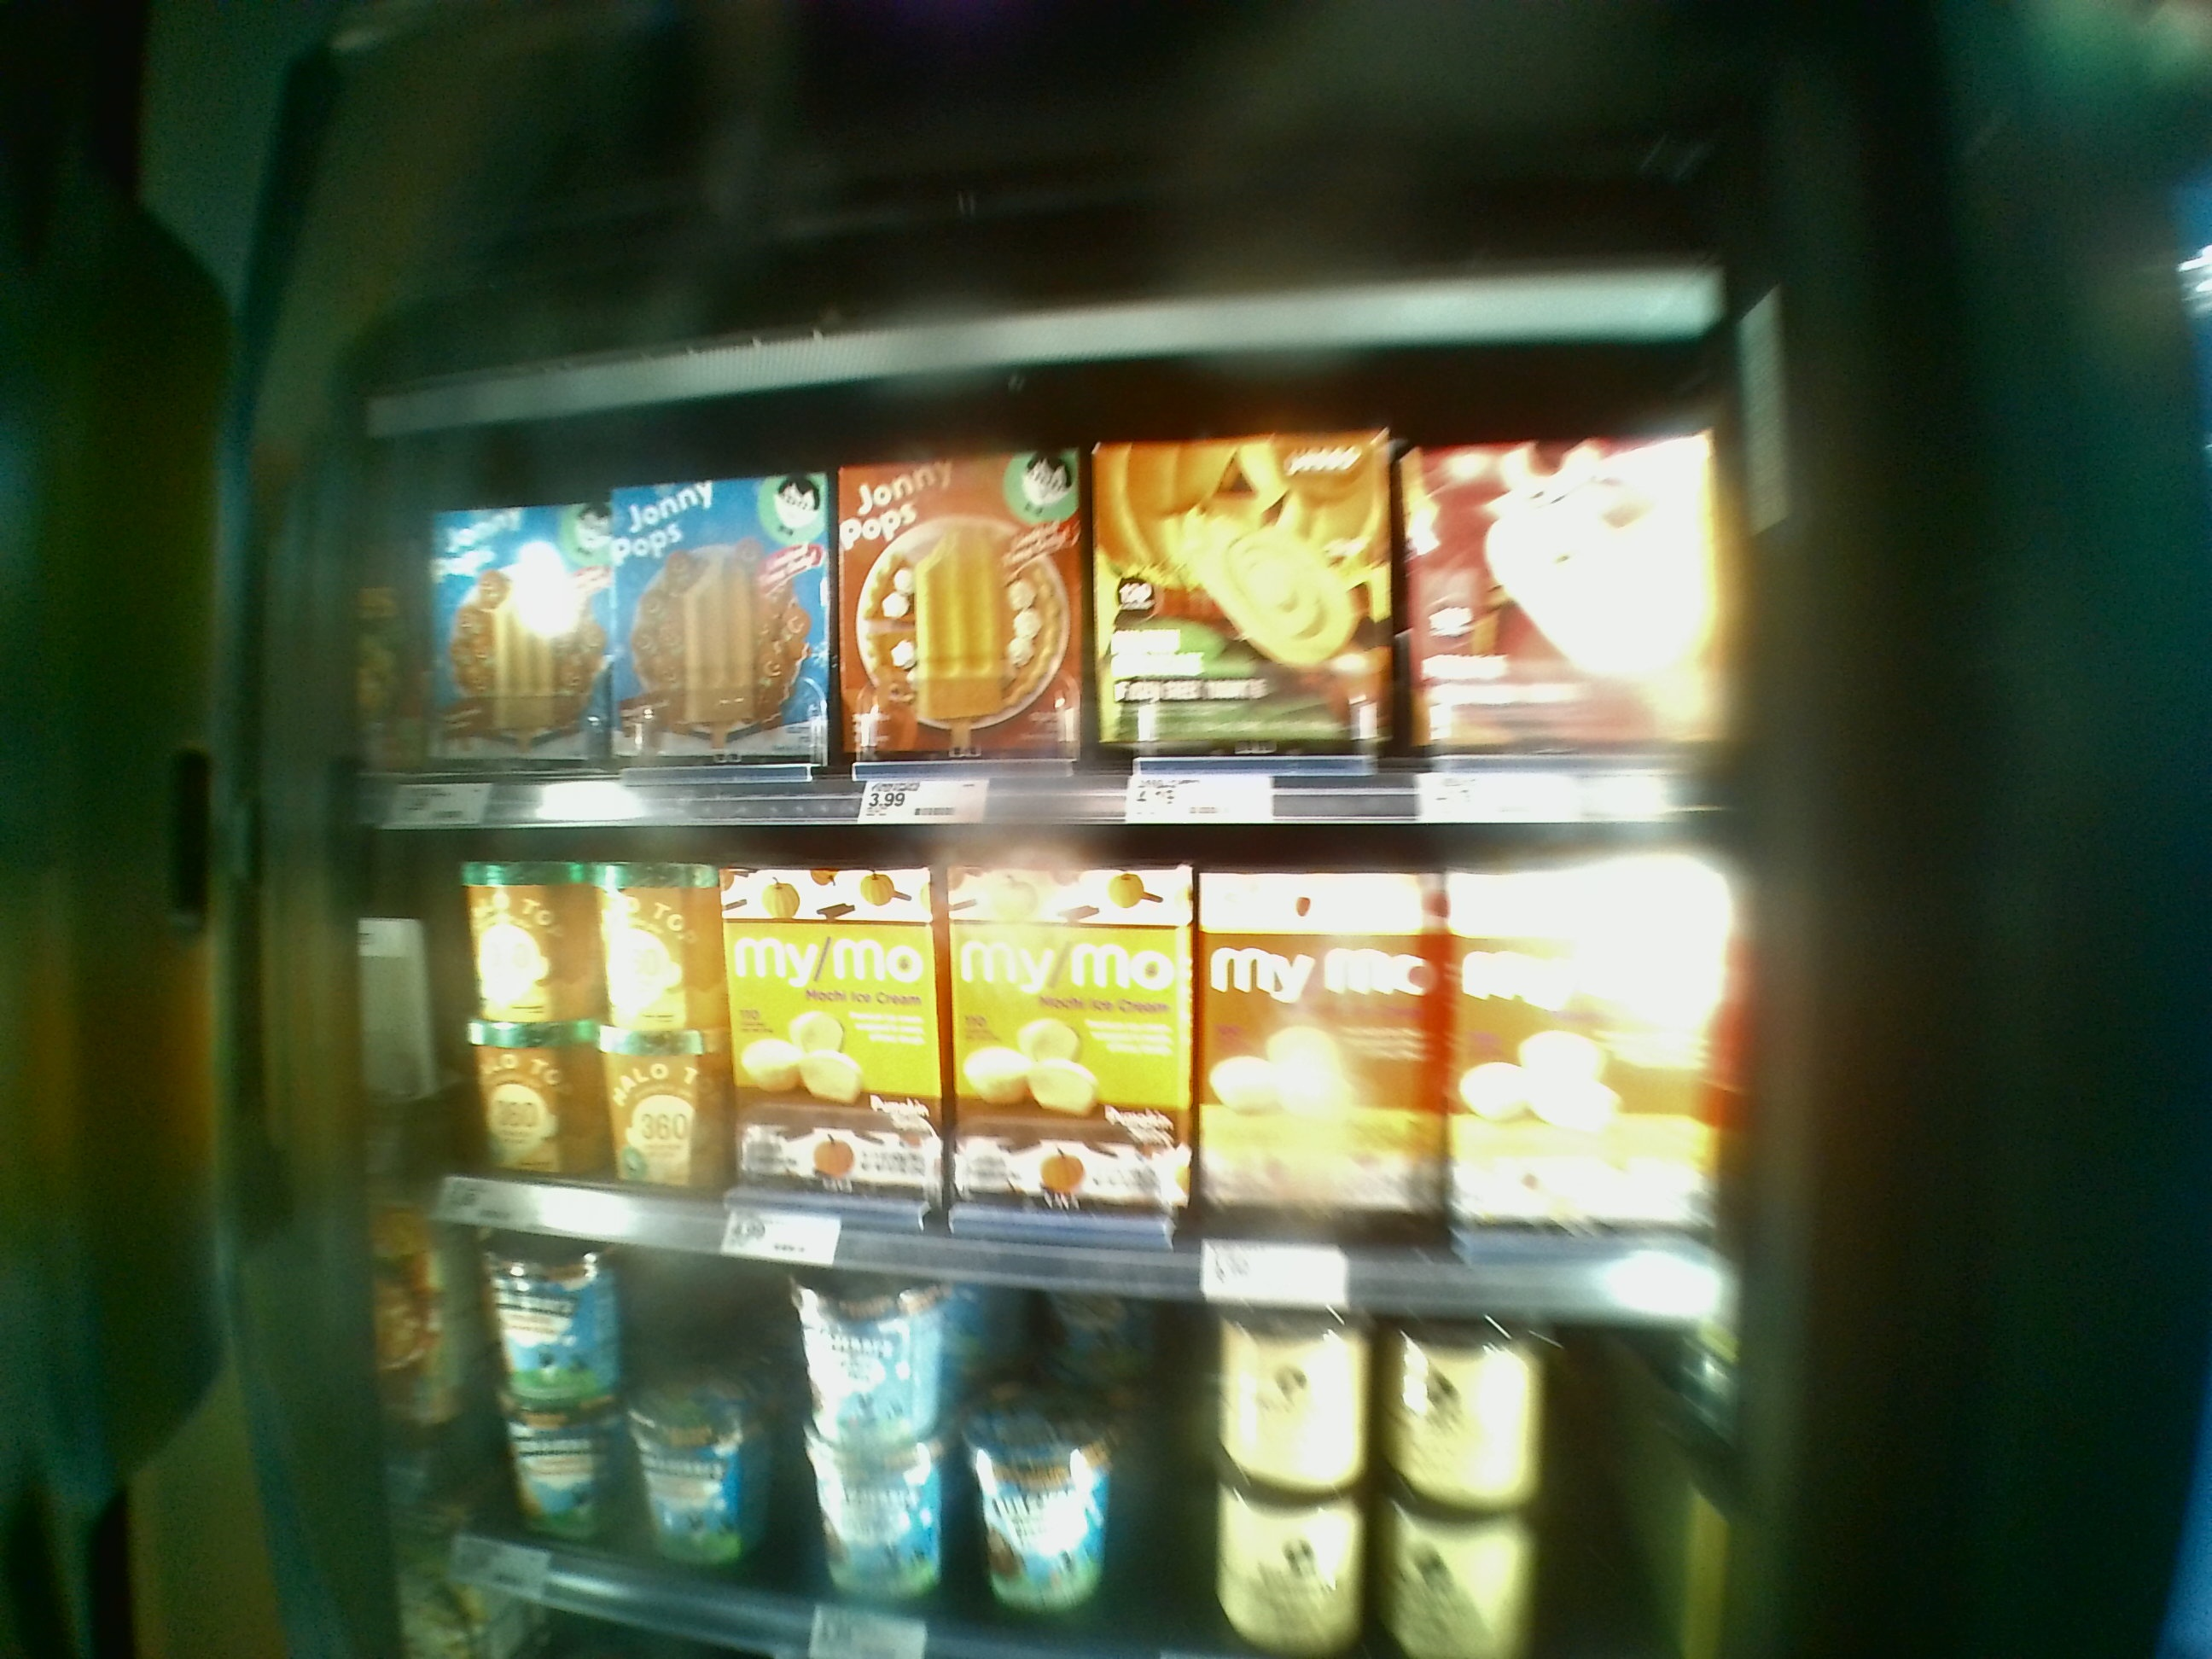shelf: (333, 821, 1731, 1324), (354, 382, 1735, 829)
